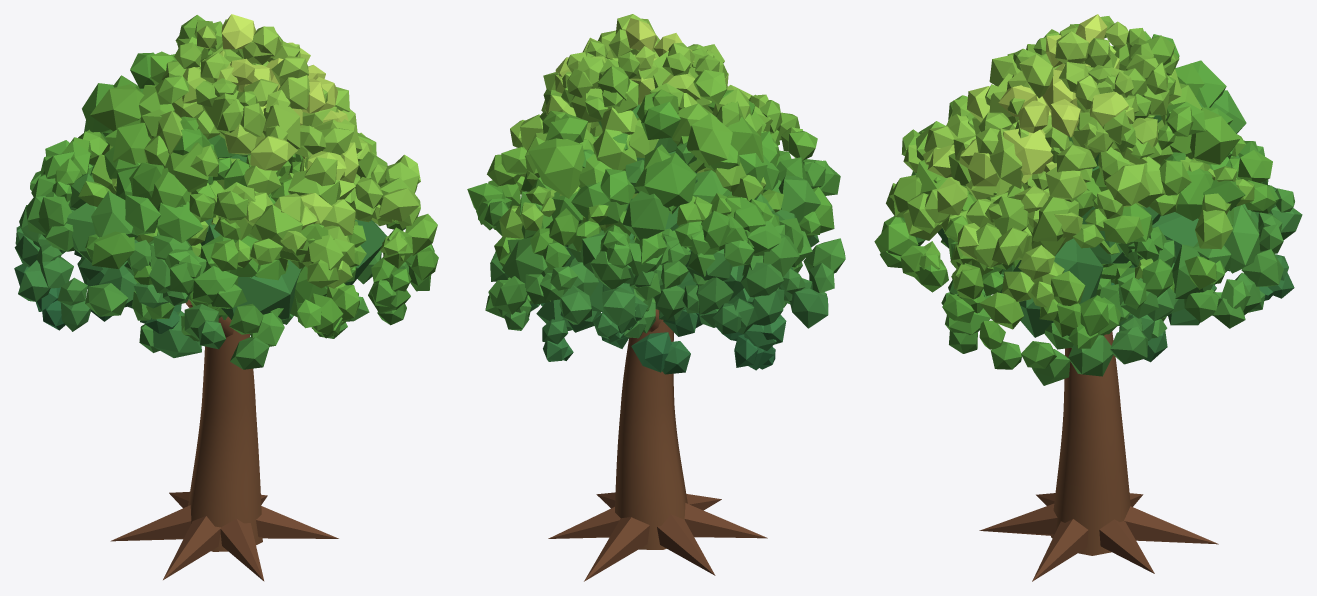
The model's file is tree_broad.glb.
3 renders of one model, left to right at view 1: azimuth 30°, elevation 25°; view 2: azimuth 150°, elevation 25°; view 3: azimuth 270°, elevation 25°, orthographic. The views are drawn at different scales.
Visible parts, largest first — view 1: trunk, leafblob.456, leafblob.042, root2, root0, root1, root3, leafblob.071, leafblob.038, leafblob.113, leafblob.085, leafblob.264 (+69 smaller); view 2: trunk, leafblob.084, leafblob.033, root4, leafblob.042, leafblob.127, root3, root2, leafblob.071, leafblob.120, leafblob.126, leafblob.116 (+64 smaller); view 3: trunk, leafblob.144, leafblob.084, root4, leafblob.120, root0, leafblob.032, leafblob.050, root5, root1, leafblob.019, leafblob.193 (+74 smaller).
Boxes of the visible parts, x1=… form: trunk: x1=188, y1=330, x2=262, y2=551; leafblob.456: x1=204, y1=224, x2=301, y2=319; leafblob.042: x1=90, y1=84, x2=144, y2=131; root2: x1=163, y1=516, x2=220, y2=579; root0: x1=256, y1=506, x2=338, y2=538; root1: x1=220, y1=518, x2=264, y2=581; root3: x1=110, y1=505, x2=191, y2=541; leafblob.071: x1=91, y1=191, x2=137, y2=239; leafblob.038: x1=156, y1=201, x2=203, y2=242; leafblob.113: x1=250, y1=204, x2=302, y2=253; leafblob.085: x1=112, y1=119, x2=150, y2=164; leafblob.264: x1=91, y1=231, x2=134, y2=268; trunk: x1=615, y1=310, x2=687, y2=549; leafblob.084: x1=528, y1=138, x2=584, y2=198; leafblob.033: x1=634, y1=152, x2=696, y2=207; root4: x1=584, y1=517, x2=649, y2=581; leafblob.042: x1=686, y1=113, x2=732, y2=165; leafblob.127: x1=622, y1=191, x2=669, y2=240; root3: x1=657, y1=514, x2=715, y2=575; root2: x1=684, y1=503, x2=767, y2=538; leafblob.071: x1=778, y1=175, x2=820, y2=223; leafblob.120: x1=502, y1=237, x2=552, y2=287; leafblob.126: x1=593, y1=129, x2=636, y2=170; leafblob.116: x1=571, y1=181, x2=627, y2=225; trunk: x1=1051, y1=331, x2=1130, y2=555; leafblob.144: x1=999, y1=238, x2=1103, y2=337; leafblob.084: x1=1190, y1=107, x2=1239, y2=164; root4: x1=1124, y1=506, x2=1218, y2=544; leafblob.120: x1=1224, y1=205, x2=1259, y2=273; root0: x1=1032, y1=519, x2=1088, y2=581; leafblob.032: x1=1003, y1=128, x2=1053, y2=175; leafblob.050: x1=1105, y1=164, x2=1150, y2=206; root5: x1=1099, y1=519, x2=1154, y2=573; root1: x1=979, y1=503, x2=1057, y2=535; leafblob.019: x1=1032, y1=196, x2=1078, y2=241; leafblob.193: x1=1068, y1=335, x2=1113, y2=376.
Bounding box in the file's own units: 3.69 × 4.91 × 3.58.
